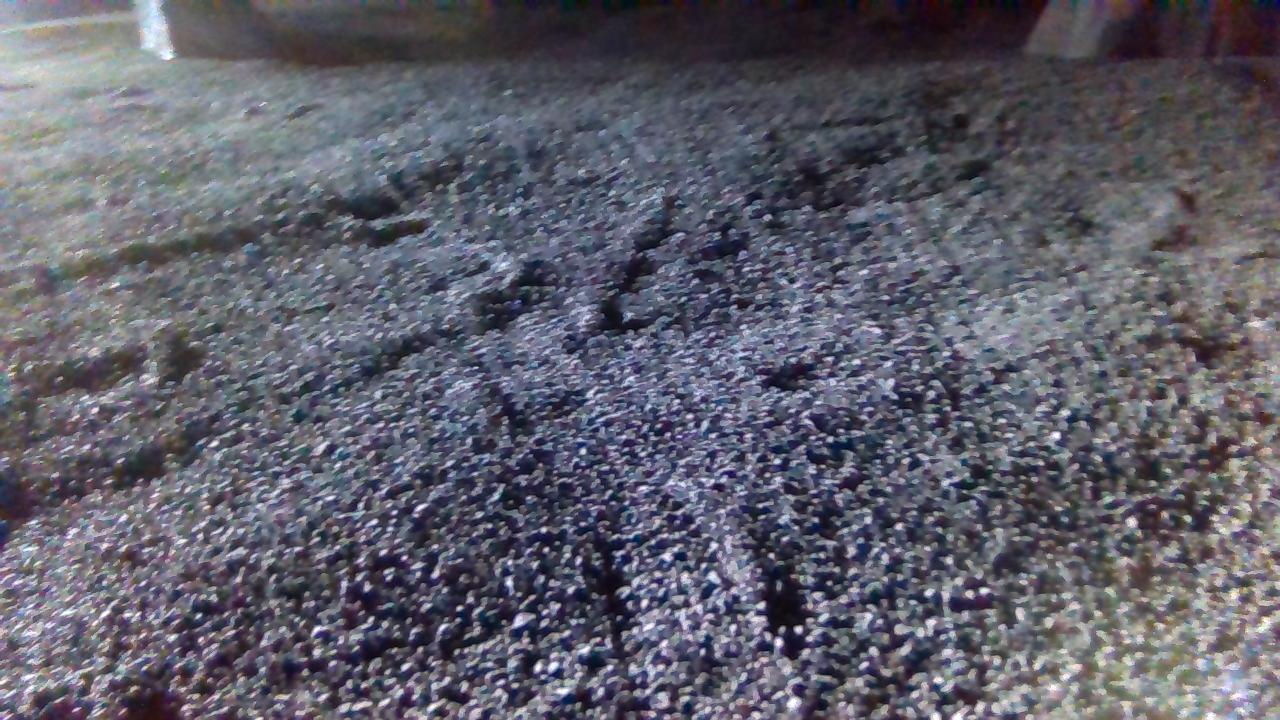rock: (1028, 0, 1280, 57), (134, 0, 274, 58)
